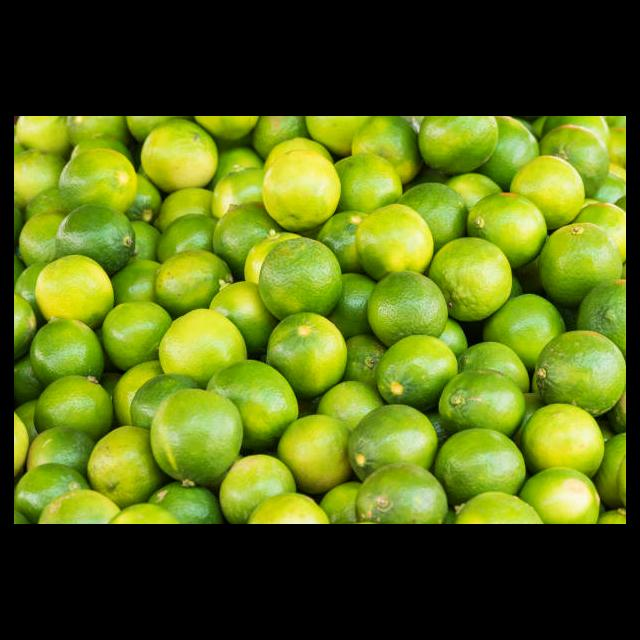lime: (149, 390, 244, 490), (537, 331, 626, 419), (365, 271, 452, 350), (262, 148, 342, 231), (351, 465, 452, 524)
